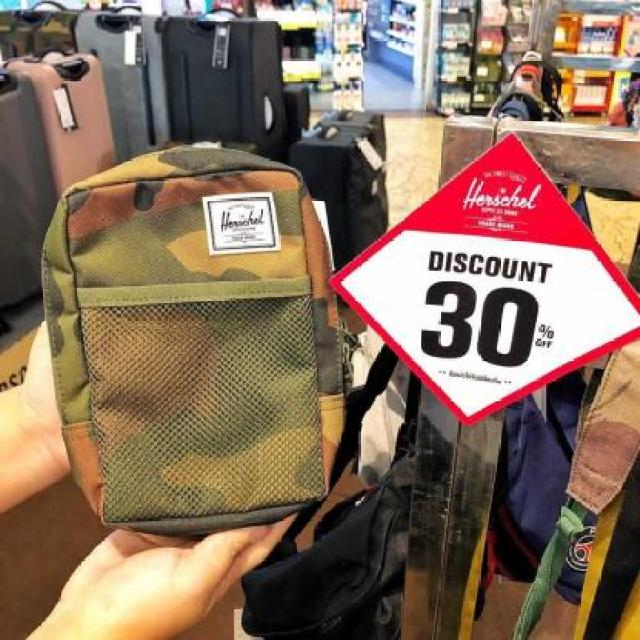Bag: (33, 111, 359, 549)
